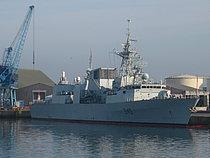MIL_Ship: (28, 18, 201, 127)
